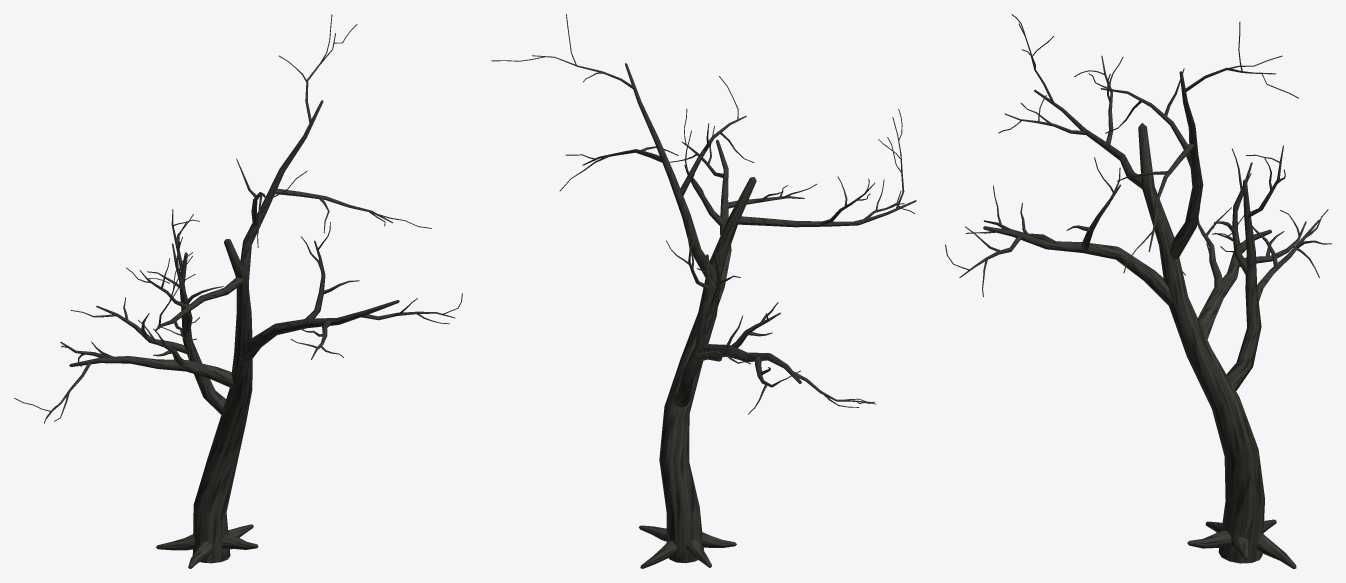
The model's file is GnarledDeadTree_2.gltf.
3 views of the same model, side by side, from view 1: azimuth 30°, elevation 25°; view 2: azimuth 150°, elevation 25°; view 3: azimuth 270°, elevation 25° (orthographic). The views are drawn at different scales.
Visible parts, largest first — view 1: GnarledDeadTree_2; view 2: GnarledDeadTree_2; view 3: GnarledDeadTree_2.
Boxes of the visible parts, left/top/right/bottom form: GnarledDeadTree_2: left=14, top=14, right=462, bottom=568; GnarledDeadTree_2: left=491, top=14, right=916, bottom=568; GnarledDeadTree_2: left=945, top=14, right=1331, bottom=568.
Bounding box in the file's own units: 10.68 × 14.46 × 8.39.
Materials: 1 (1 with a texture image).
